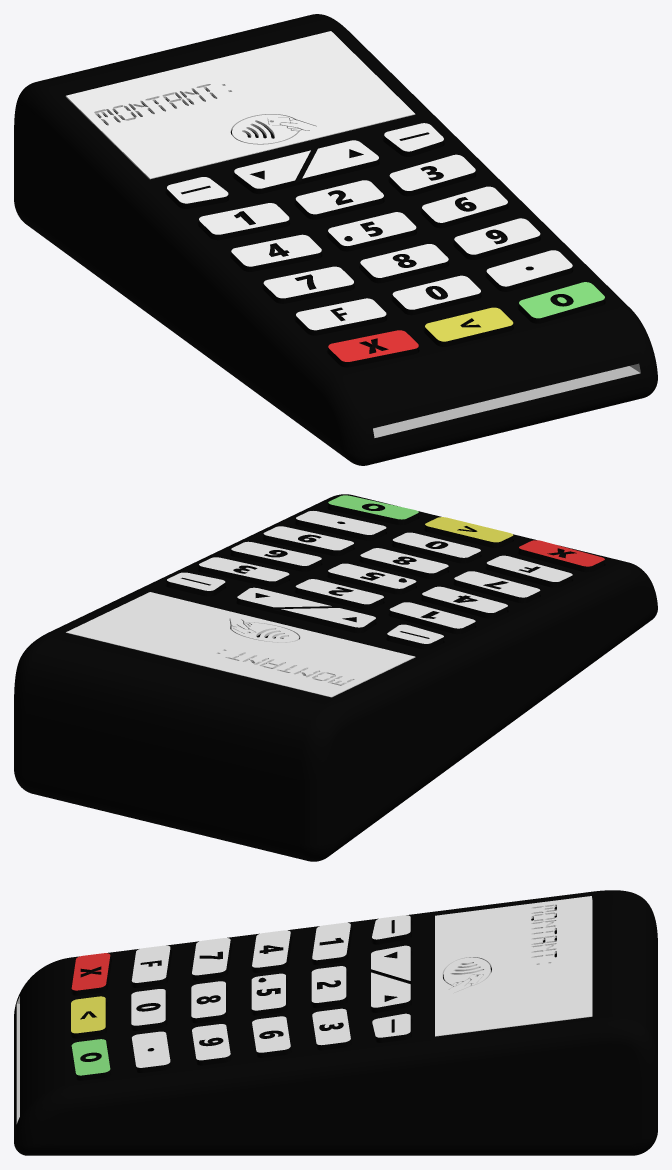
File: terminal_complet.fbx
3 renders of one model, top to bottom at view 1: azimuth 30°, elevation 25°; view 2: azimuth 150°, elevation 25°; view 3: azimuth 270°, elevation 25°, orthographic. The views are drawn at different scales.
Parts seen in each view (by area): view 1: imagetostl_mesh0; view 2: imagetostl_mesh0; view 3: imagetostl_mesh0.
Part boxes in pixels (left/top/right/bottom): imagetostl_mesh0: left=14, top=14, right=657, bottom=465; imagetostl_mesh0: left=14, top=494, right=657, bottom=861; imagetostl_mesh0: left=14, top=890, right=657, bottom=1155.
Size of the model in its own units: 6400 by 2857 by 12199.
